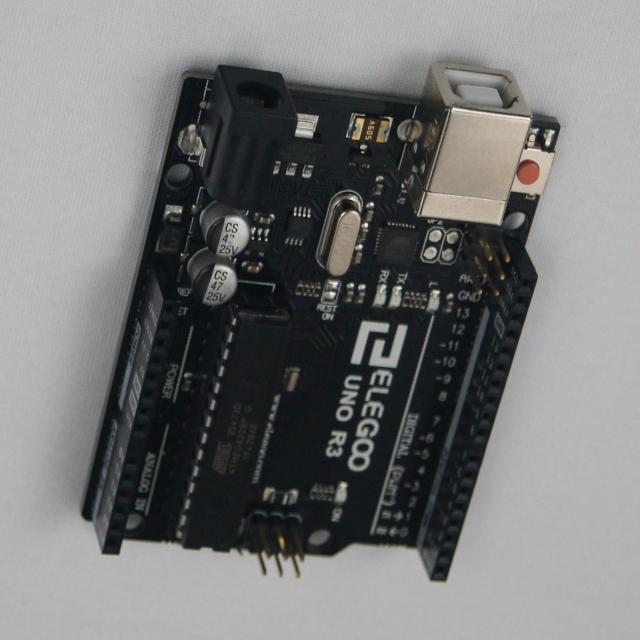Arduino Uno -Black-: (83, 63, 560, 581)
